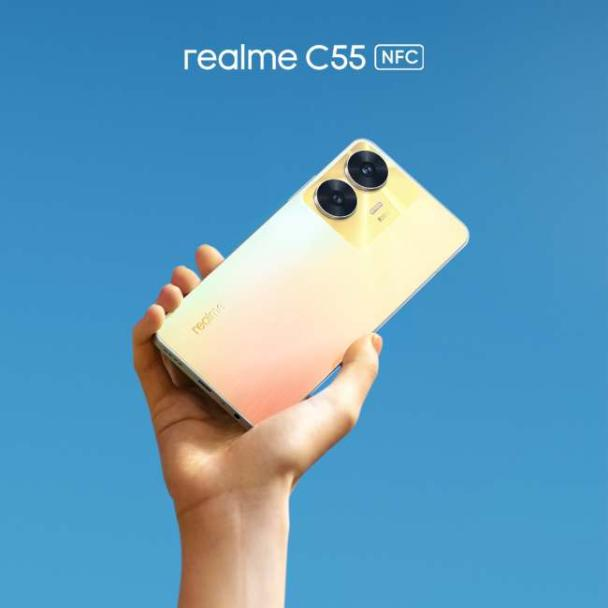Handphone: (143, 128, 480, 446)
